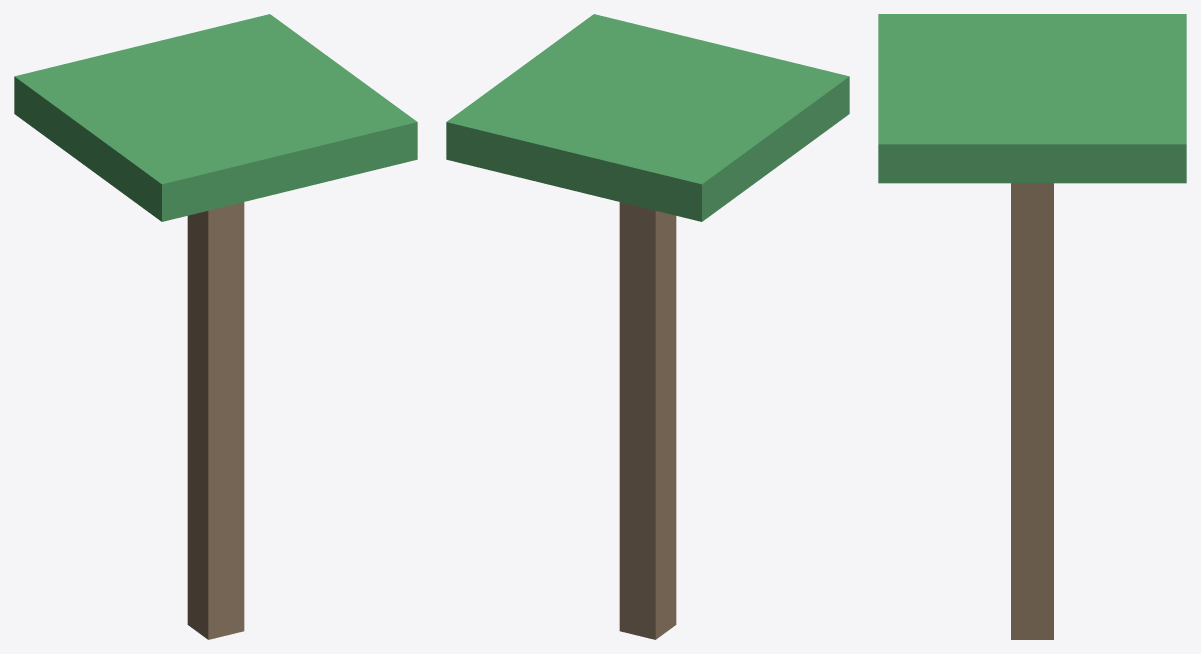
The model's file is city_landmarks.glb.
The picture shows the model from 3 angles, left to right: view 1: azimuth 30°, elevation 25°; view 2: azimuth 150°, elevation 25°; view 3: azimuth 270°, elevation 25°; orthographic projection. The views are drawn at different scales.
Parts seen in each view (by area): view 1: LosSantosPalmLandmark; view 2: LosSantosPalmLandmark; view 3: LosSantosPalmLandmark.
Boxes of the visible parts, bbox=[...] form: LosSantosPalmLandmark: bbox=[14, 14, 417, 639]; LosSantosPalmLandmark: bbox=[446, 14, 849, 639]; LosSantosPalmLandmark: bbox=[878, 14, 1186, 639].
Size of the model in its own units: 3.2 by 6.32 by 3.2.
